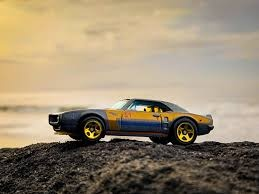Car: (47, 94, 215, 146)
